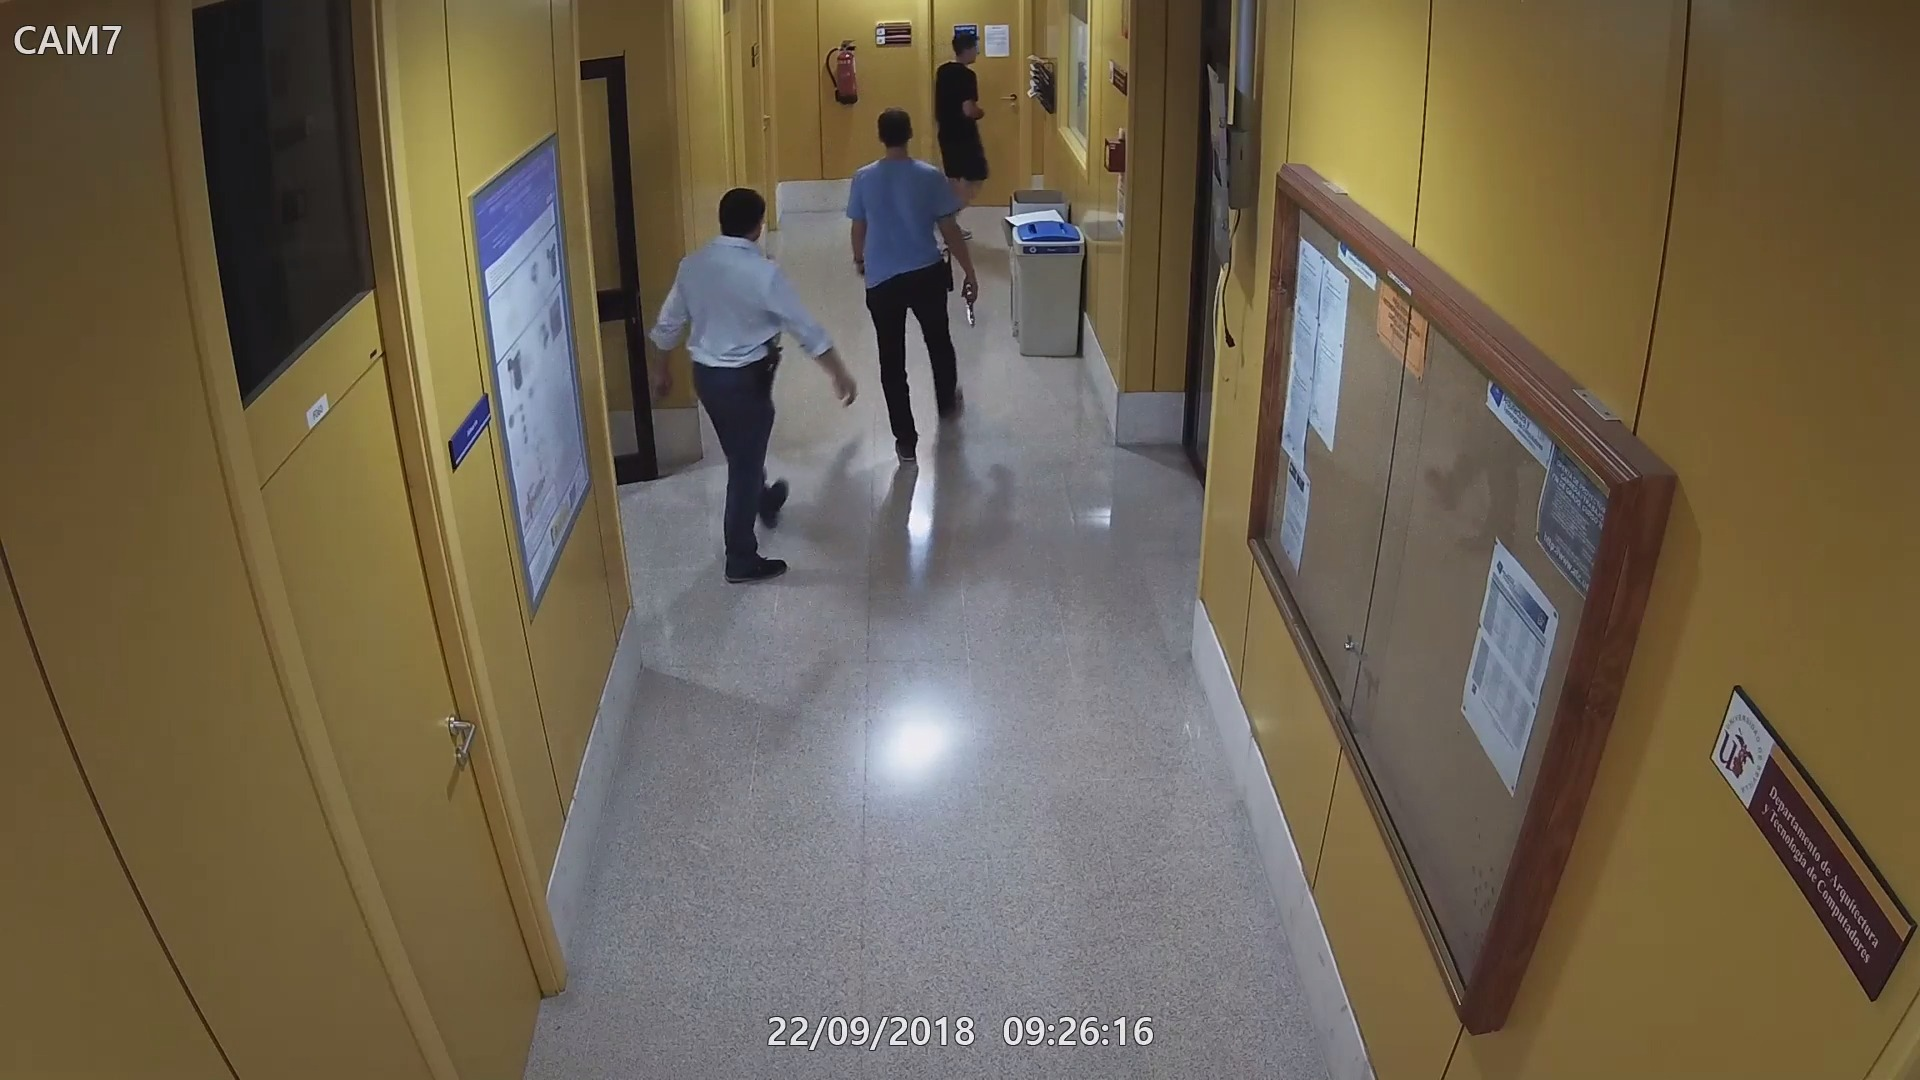Handgun: (956, 273, 982, 328), (758, 339, 785, 392)
